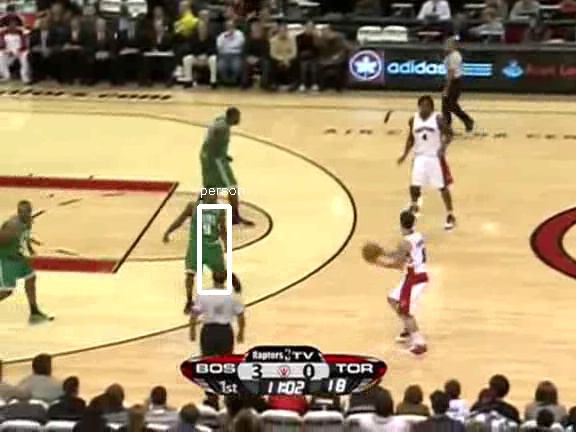person: (191, 199, 225, 280), (190, 199, 224, 280), (192, 199, 226, 280), (191, 198, 225, 279), (191, 200, 225, 281)
target_negative: (138, 200, 547, 393), (465, 123, 523, 399), (13, 258, 78, 312), (461, 38, 524, 69), (557, 222, 563, 373), (525, 246, 529, 416)
